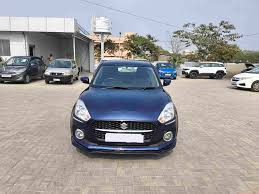Swift: (68, 56, 179, 162)
